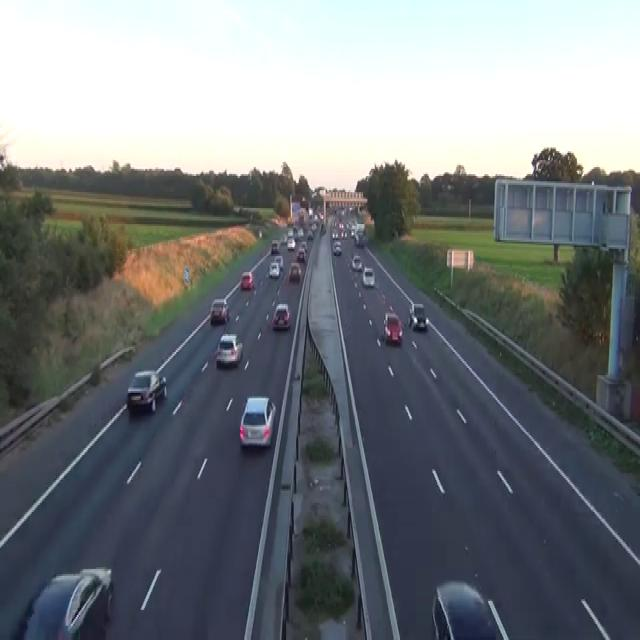Car: (16, 566, 114, 638), (431, 580, 509, 638), (239, 396, 276, 448), (126, 370, 167, 412), (215, 332, 243, 368), (383, 311, 402, 345), (408, 302, 428, 331), (271, 302, 291, 331), (210, 297, 229, 323), (362, 265, 375, 286), (288, 261, 301, 281), (241, 270, 253, 290), (351, 252, 362, 270), (269, 262, 279, 278), (332, 240, 342, 254), (296, 247, 306, 261), (275, 254, 283, 270), (286, 238, 295, 249), (271, 240, 279, 252), (232, 204, 241, 213), (320, 222, 326, 235), (331, 229, 338, 240), (280, 233, 287, 243), (446, 182, 454, 190), (300, 240, 307, 249), (287, 228, 293, 238), (307, 230, 313, 238), (258, 228, 262, 238)
